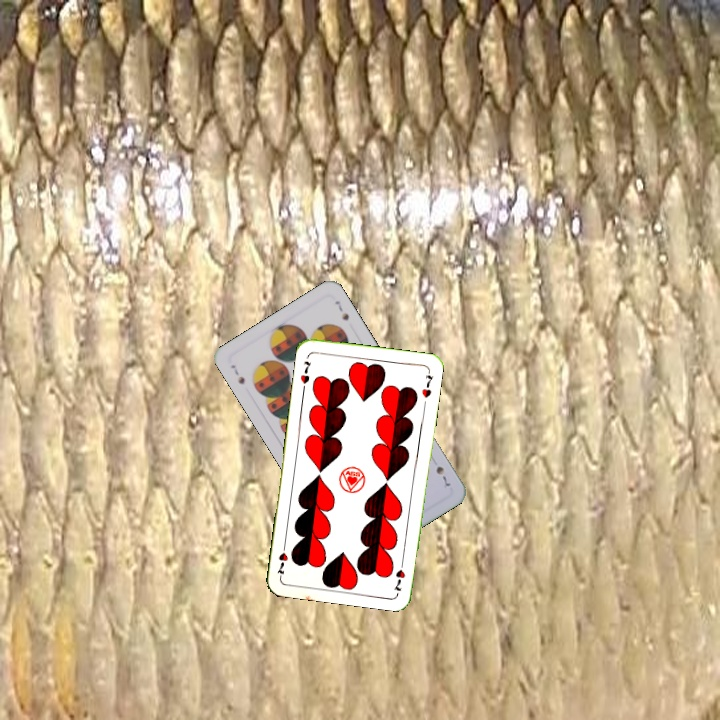H7: (390, 555, 407, 593), (296, 357, 314, 386)
S7: (226, 360, 248, 387), (432, 462, 453, 489)
